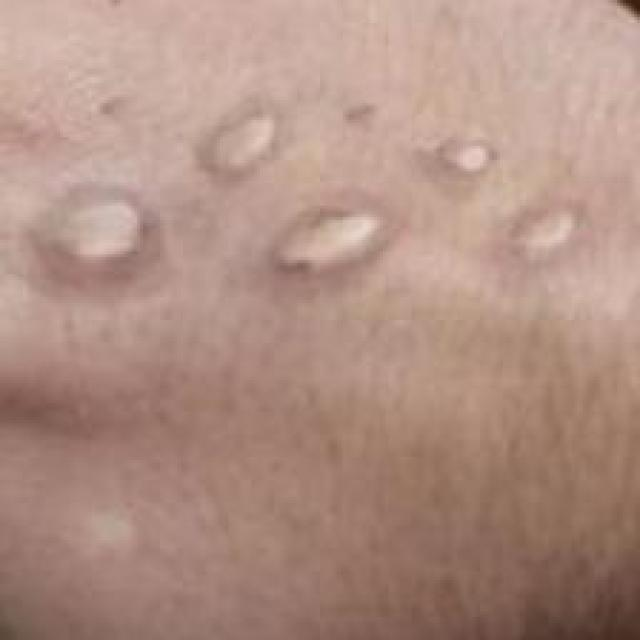monkeypox: (33, 61, 601, 417)
